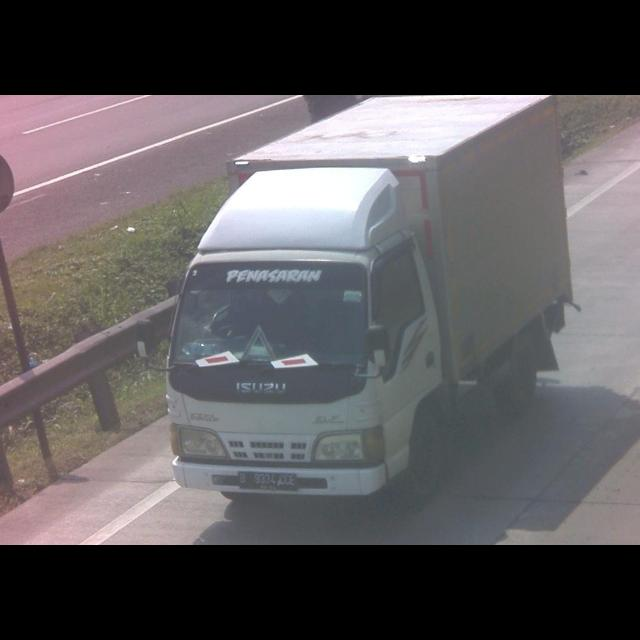plate: (238, 470, 298, 492)
